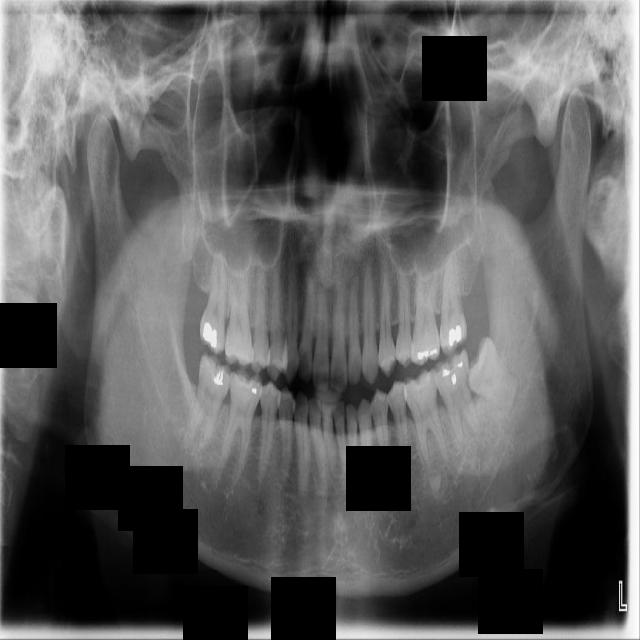52: (202, 321, 217, 348), (447, 324, 463, 348), (213, 369, 223, 386), (416, 350, 430, 361), (456, 359, 466, 369), (428, 348, 439, 357), (442, 368, 450, 378), (451, 371, 456, 385), (251, 387, 257, 395)
73: (596, 581, 602, 594)
BioHorizons Implant: (439, 240, 472, 358)
Biomet 3i Implant: (451, 335, 528, 422)
Blue Sky Bio Implant: (429, 346, 484, 451)
Caries: (198, 247, 230, 355)
Implant: (184, 346, 236, 457)
